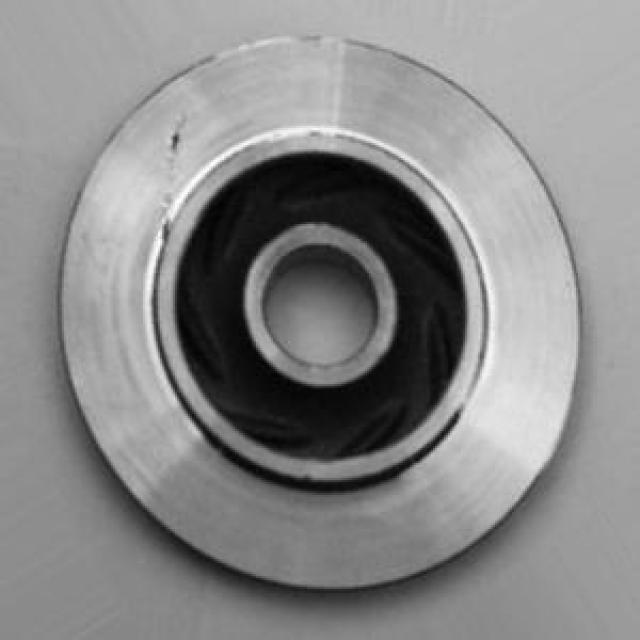Defect: (169, 116, 196, 167)
